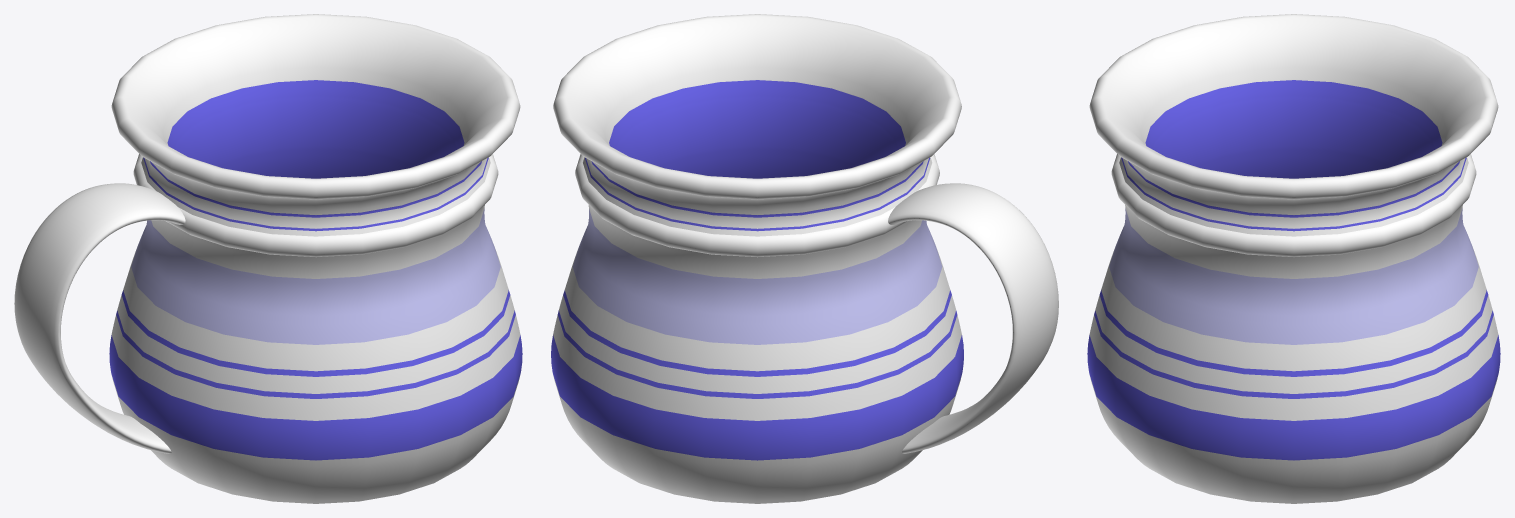
The model's file is mug.dae.
The picture shows the model from 3 angles, left to right: view 1: azimuth 30°, elevation 25°; view 2: azimuth 150°, elevation 25°; view 3: azimuth 270°, elevation 25°; orthographic projection.
Parts seen in each view (by area): view 1: group_1 (×14), group_2; view 2: group_1 (×14), group_2; view 3: group_1 (×14).
Boxes of the visible parts, left/top/right/bottom form: group_1 (×14): left=109, top=14, right=522, bottom=503; group_2: left=14, top=183, right=185, bottom=453; group_1 (×14): left=551, top=14, right=963, bottom=503; group_2: left=888, top=183, right=1058, bottom=453; group_1 (×14): left=1087, top=14, right=1500, bottom=503.
Size of the model in its own units: 7.36 by 5.66 by 5.09.
